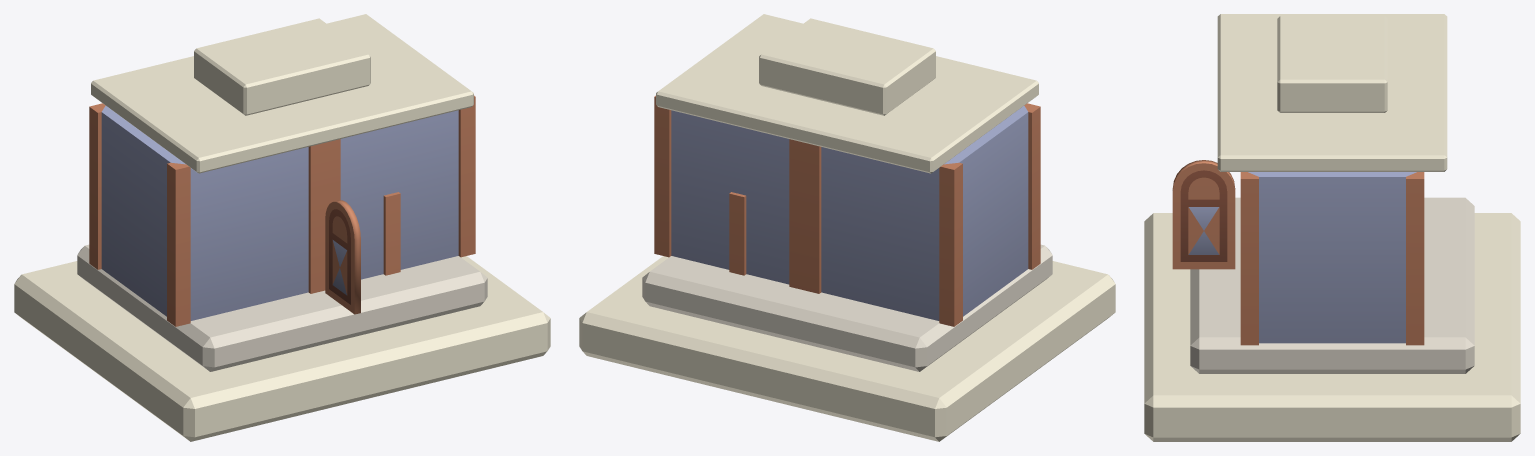
Rendered from south_american-house.glb.
3 renders of one model, left to right at view 1: azimuth 30°, elevation 25°; view 2: azimuth 150°, elevation 25°; view 3: azimuth 270°, elevation 25°, orthographic. The views are drawn at different scales.
Visible parts, largest first — view 1: keep; view 2: keep; view 3: keep.
Part boxes in pixels (left/top/right/bottom): keep: left=14, top=14, right=550, bottom=441; keep: left=579, top=14, right=1115, bottom=441; keep: left=1144, top=14, right=1520, bottom=441.
Bounding box in the file's own units: 1.55 × 1.15 × 1.3.
6 materials, 3 textured.
